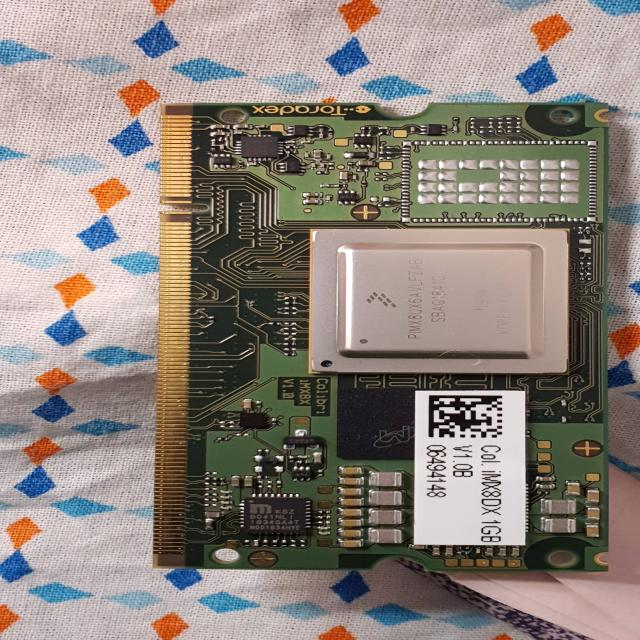som: (134, 92, 630, 581)
